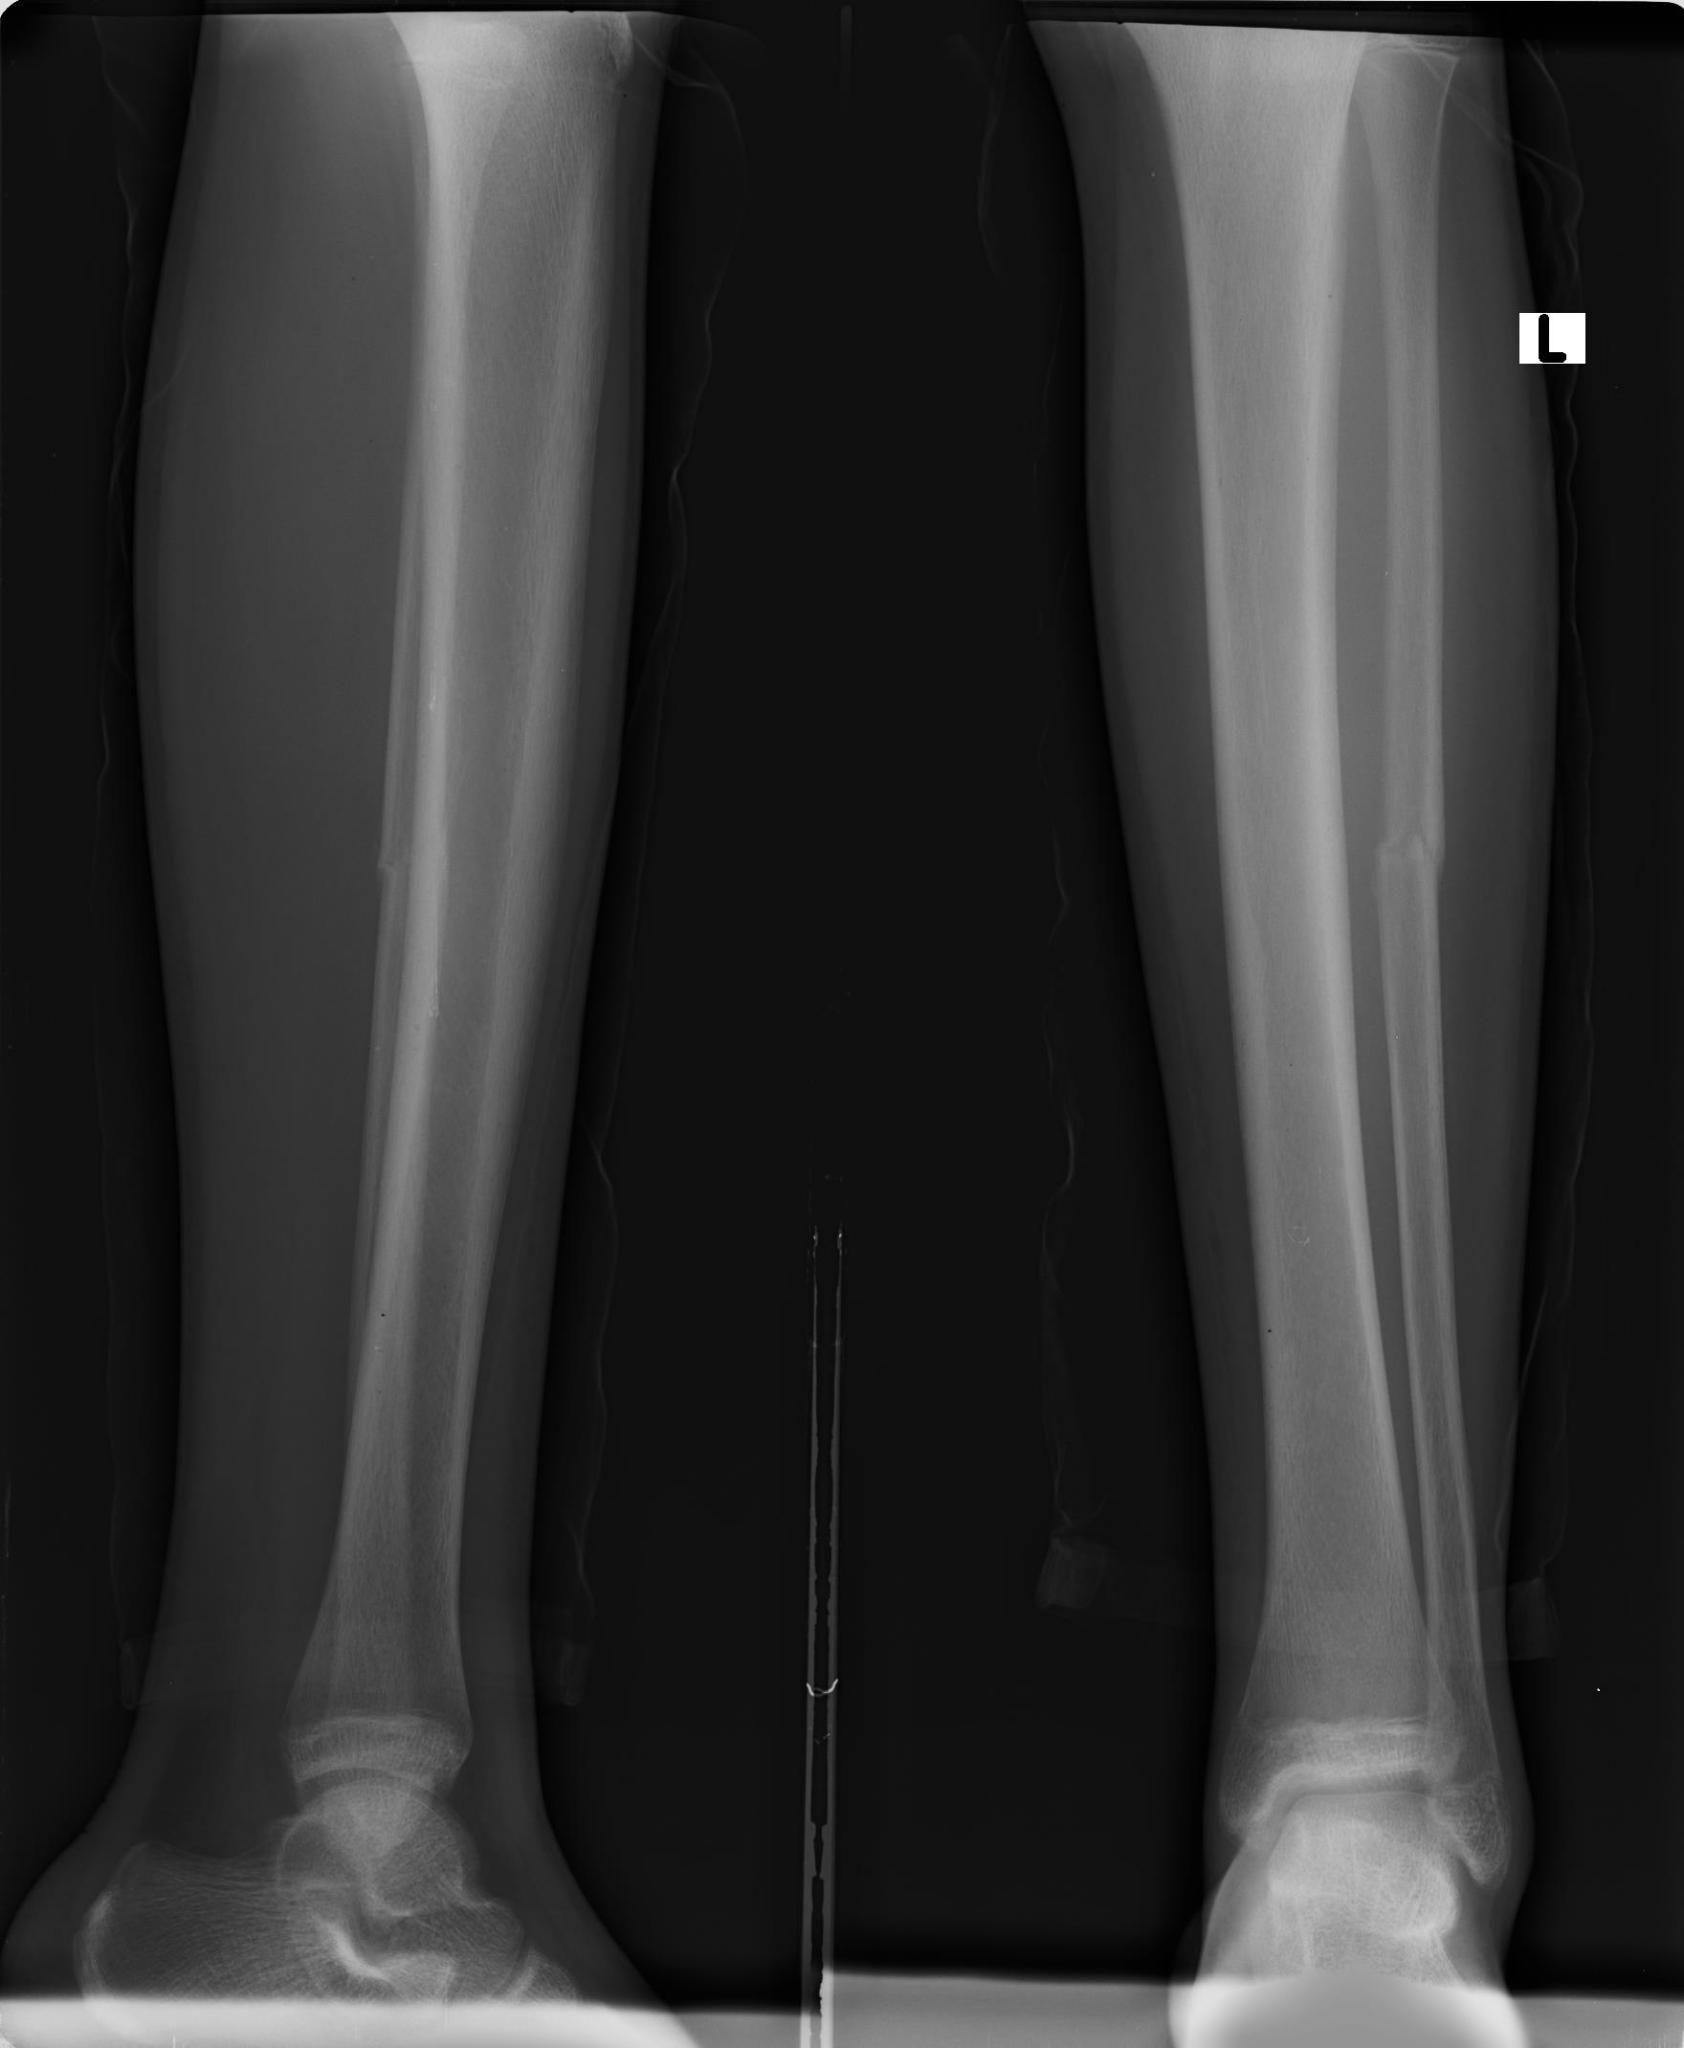fractured: (1363, 782, 1456, 922), (371, 818, 418, 903)
